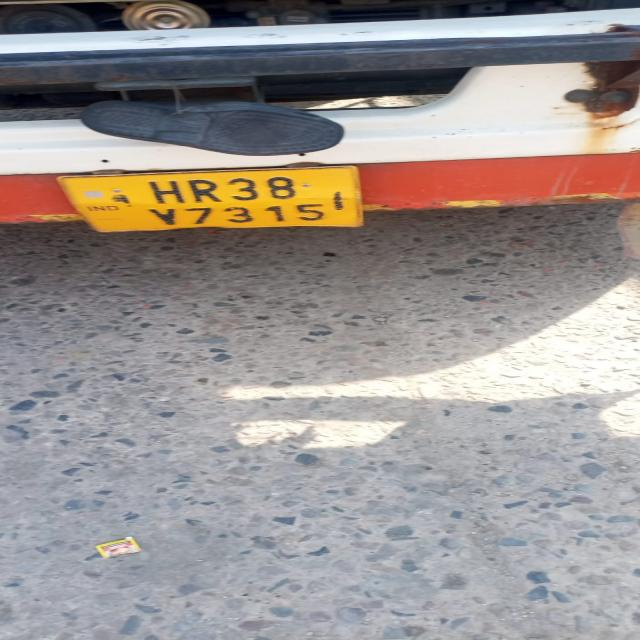License-plate: (64, 174, 365, 228)
